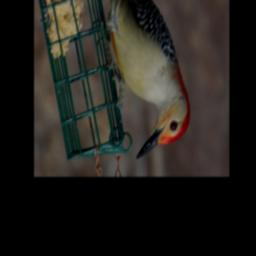Woodpecker: (97, 0, 190, 159)
